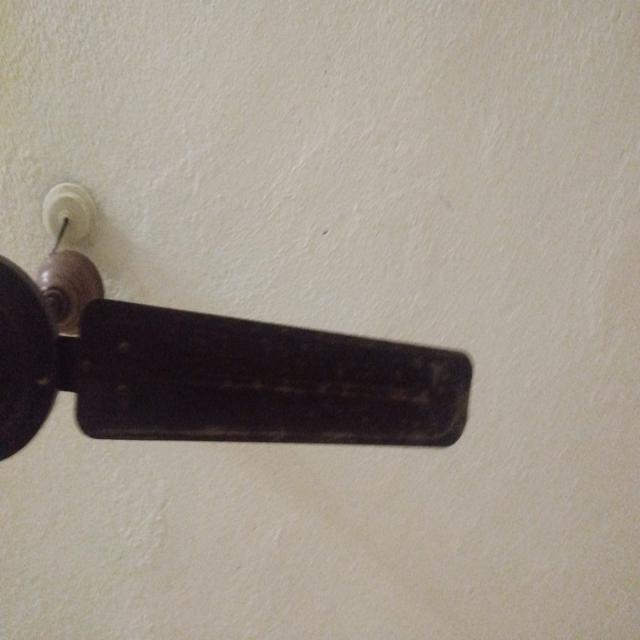fan_off: (0, 248, 475, 462)
